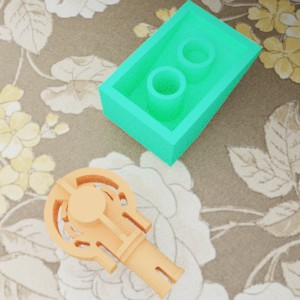lego: (97, 0, 262, 167), (44, 167, 185, 300)
